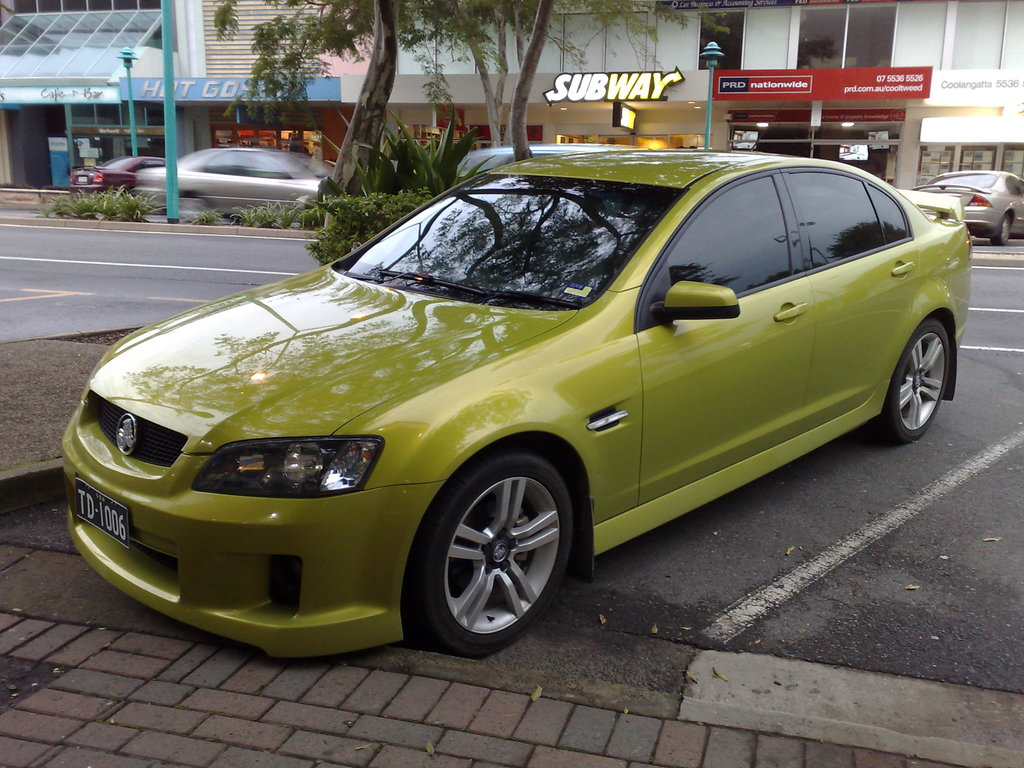Car: (53, 148, 976, 656), (130, 141, 322, 225), (912, 171, 1024, 243), (69, 153, 162, 204)
